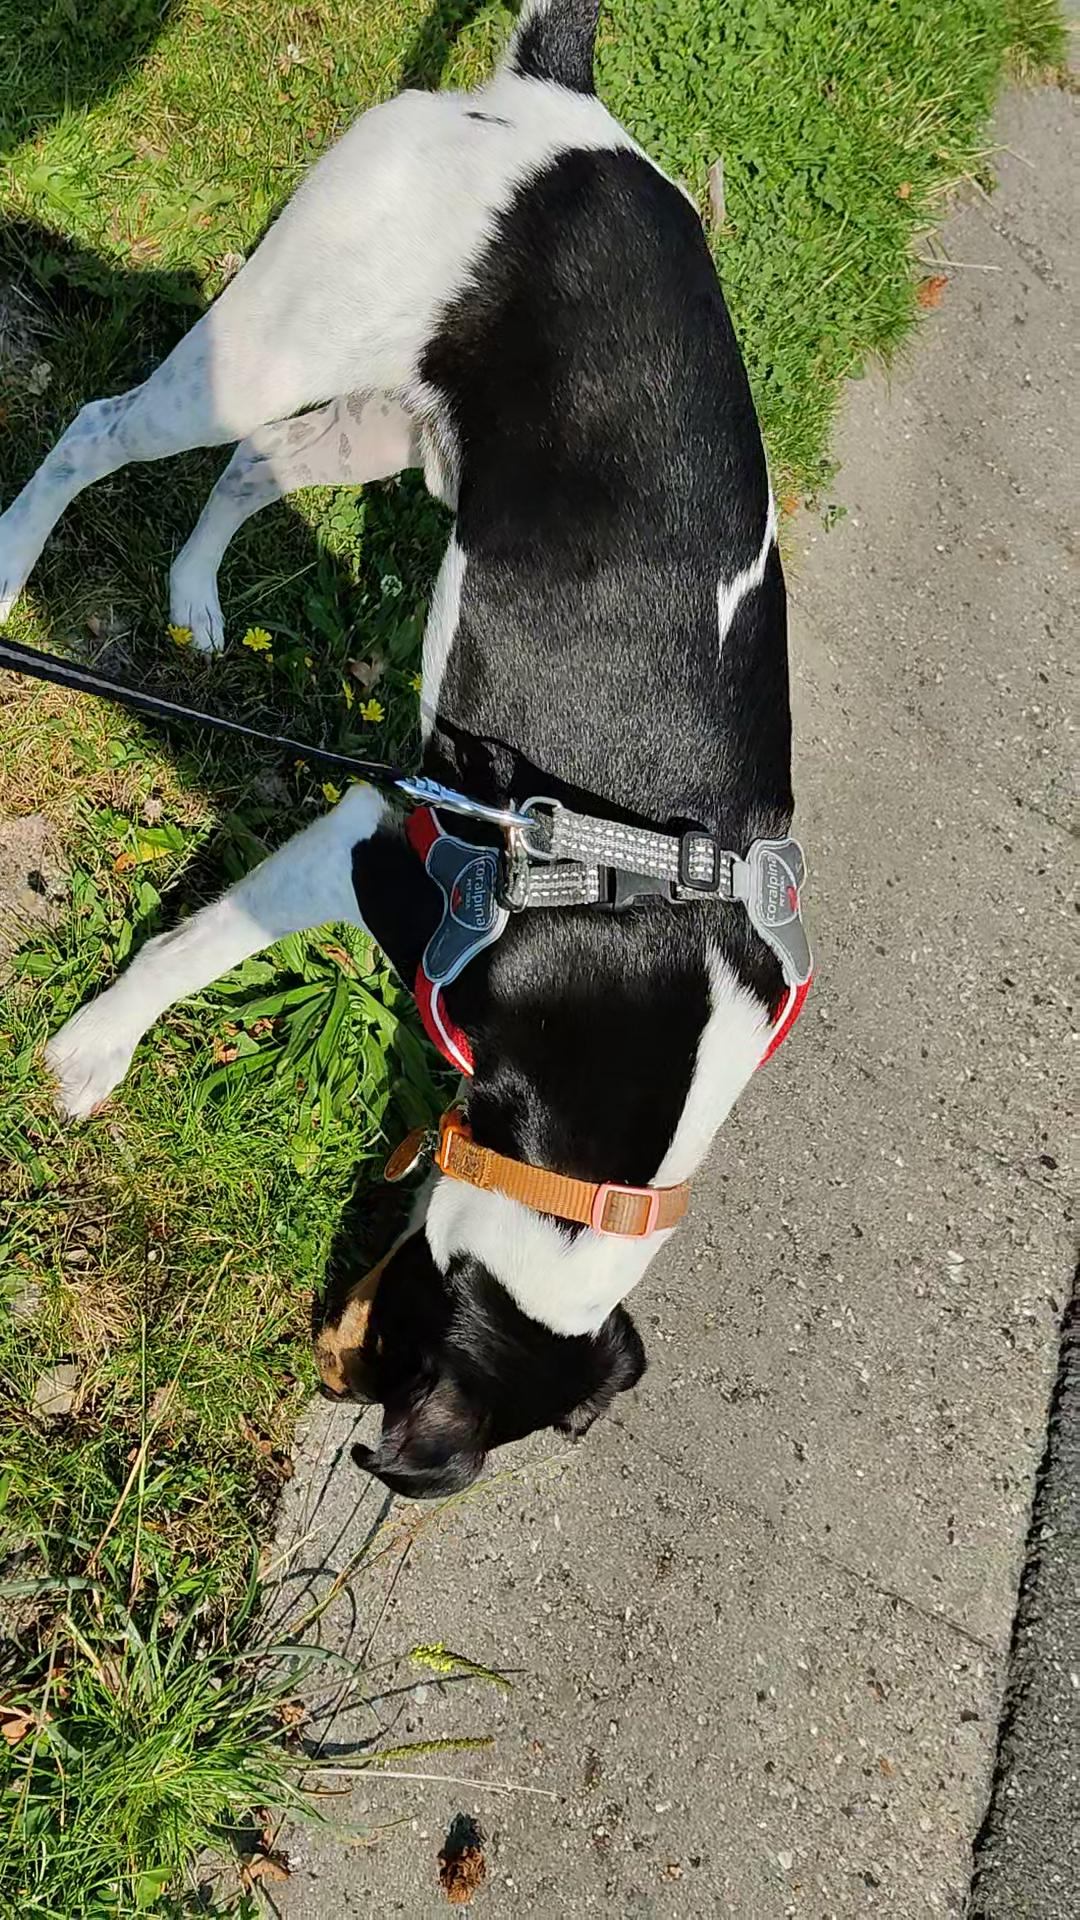Dog: (0, 0, 876, 1503)
